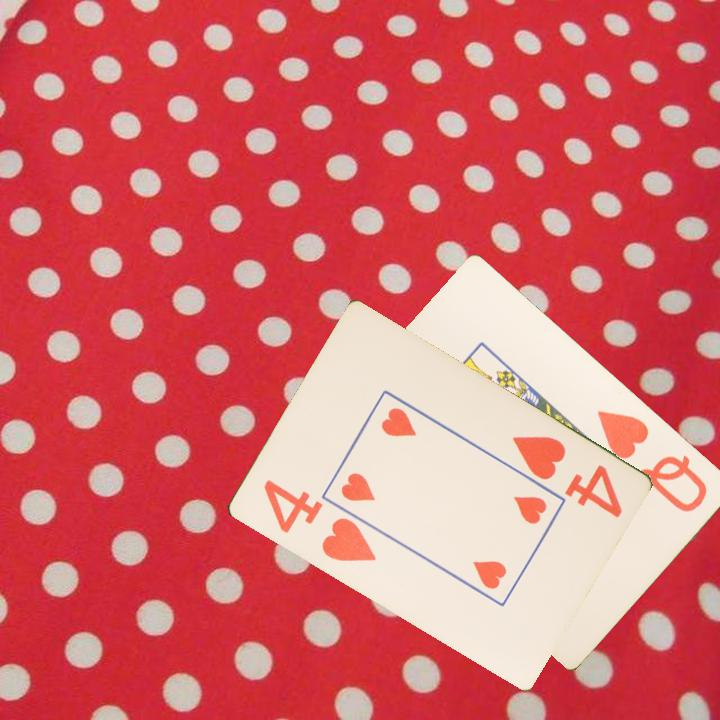4h: (259, 476, 379, 565), (508, 432, 625, 522)
Qh: (594, 406, 711, 515)
